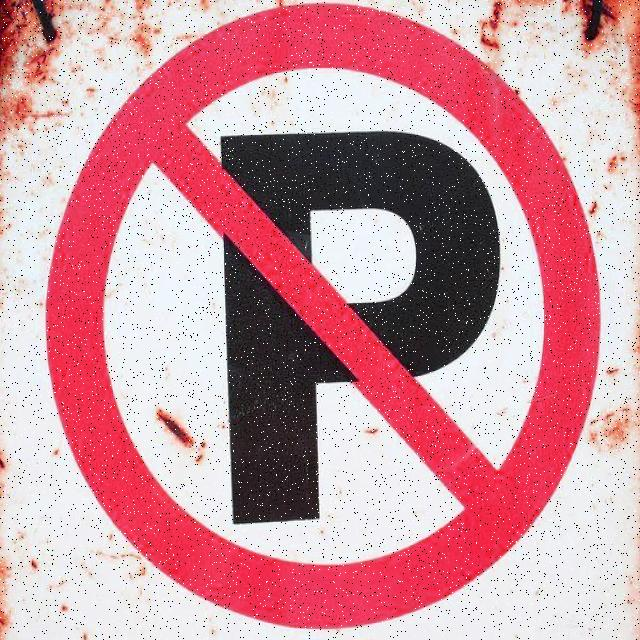No_parking: (37, 5, 600, 618)
